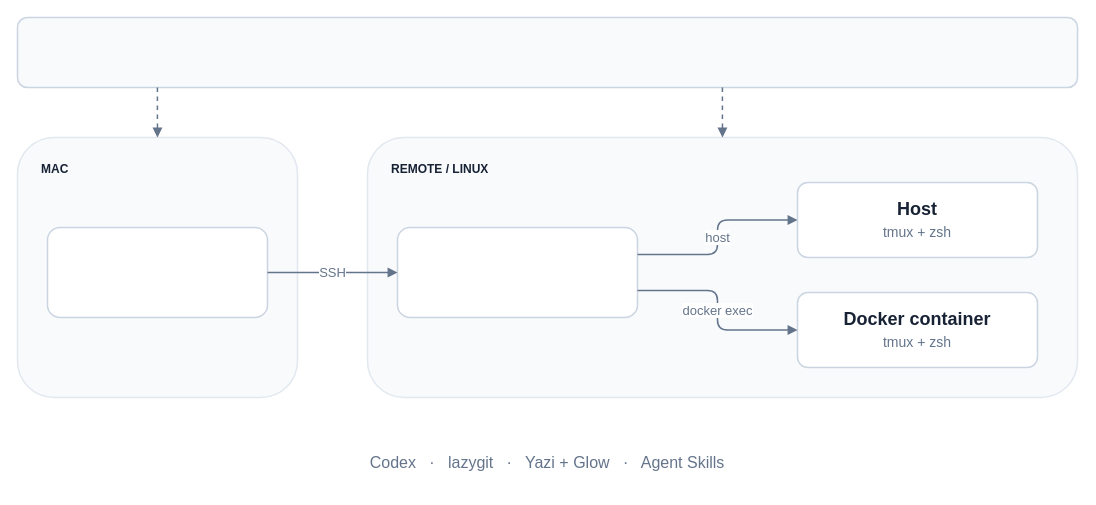
This 1096x505 diagram has some shape labels left out. The shapes that lost their labels are listed below. From the top down, each one's centre as x and y in pixels, then its label:
At (547,52): "dotfiles / bootstrap Shared configuration · reproducible setup".
At (157,272): "Ghostty tmux + zsh".
At (517,272): "Workspace selector remote-dev-entry".
